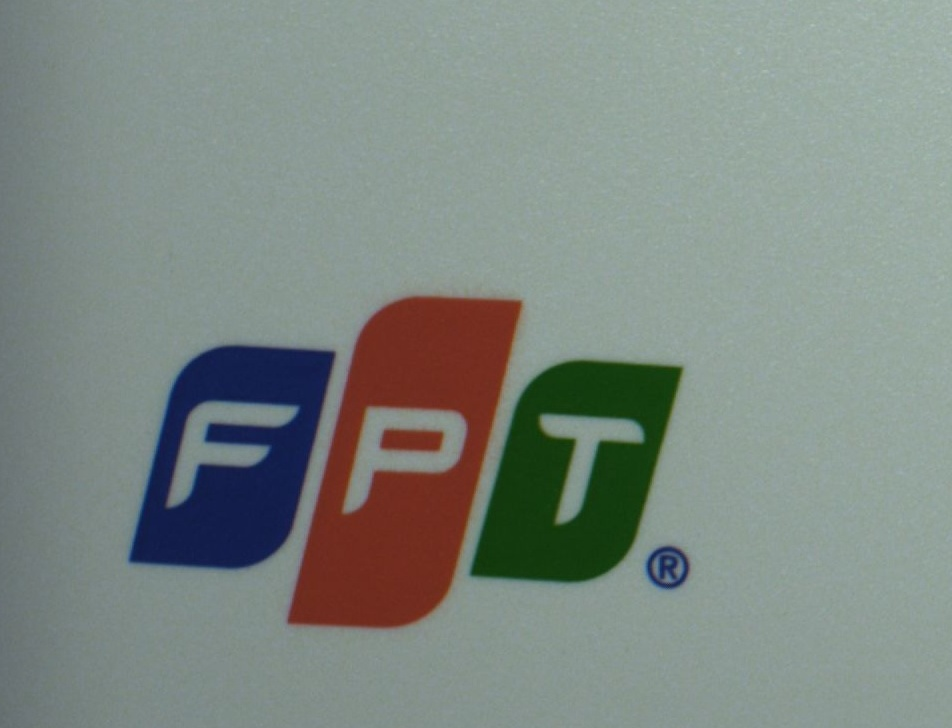BR_FPT: (103, 294, 697, 630)
